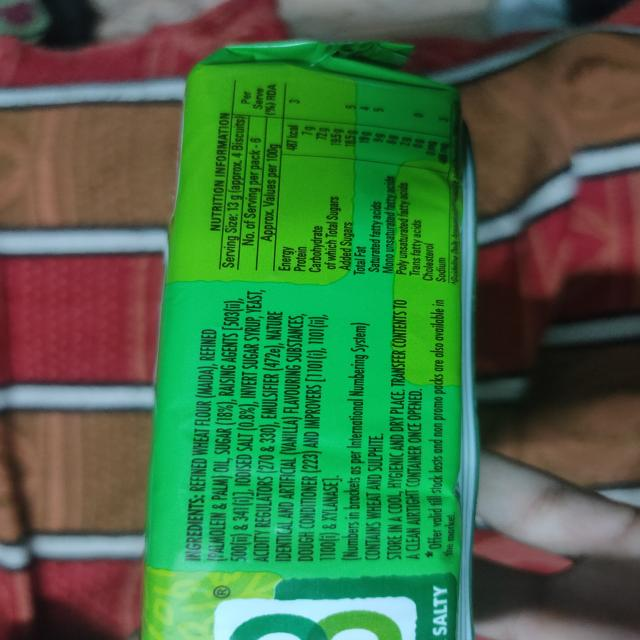biscuit: (141, 39, 476, 640)
